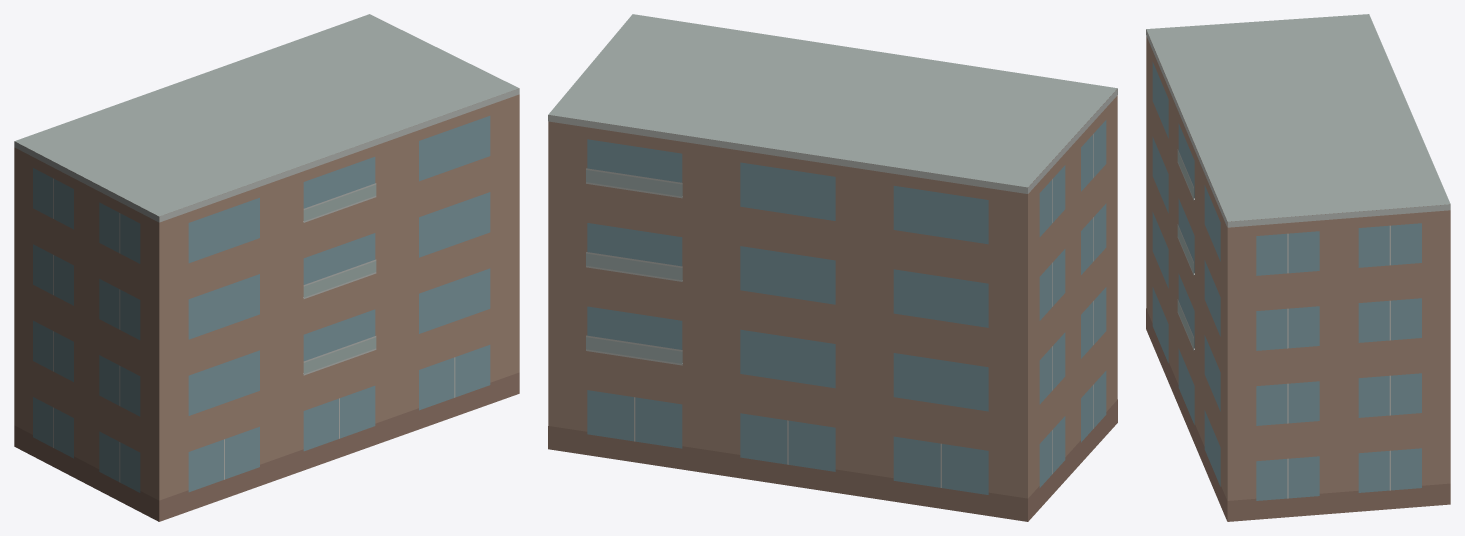
File: survey-upis-32702622.glb
The picture shows the model from 3 angles, left to right: view 1: azimuth 30°, elevation 25°; view 2: azimuth 150°, elevation 25°; view 3: azimuth 270°, elevation 25°; orthographic projection. The views are drawn at different scales.
Visible parts, largest first — view 1: survey-upis-32702622.tmp; view 2: survey-upis-32702622.tmp; view 3: survey-upis-32702622.tmp.
Boxes of the visible parts, bbox=[...] form: survey-upis-32702622.tmp: bbox=[14, 14, 519, 521]; survey-upis-32702622.tmp: bbox=[548, 14, 1117, 521]; survey-upis-32702622.tmp: bbox=[1146, 14, 1450, 521].
Size of the model in its own units: 18.12 by 12.2 by 11.23.
